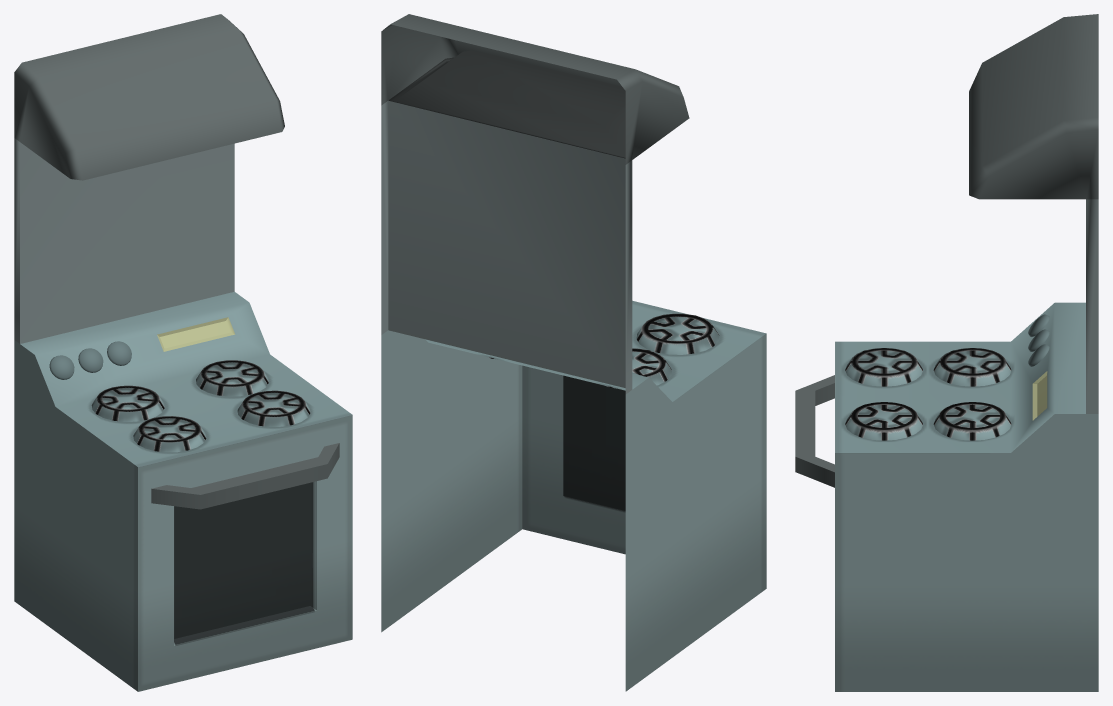
Rendered from KitchenOven.fbx.
3 renders of one model, left to right at view 1: azimuth 30°, elevation 25°; view 2: azimuth 150°, elevation 25°; view 3: azimuth 270°, elevation 25°, orthographic. The views are drawn at different scales.
Parts seen in each view (by area): view 1: Oven_fan; view 2: Oven_fan; view 3: Oven_fan.
Part boxes in pixels (x1,y1,x2,y2): Oven_fan: (14,14,352,691); Oven_fan: (381,14,766,691); Oven_fan: (795,14,1098,691).
Bounding box in the file's own units: 1 × 2.39 × 1.15.
